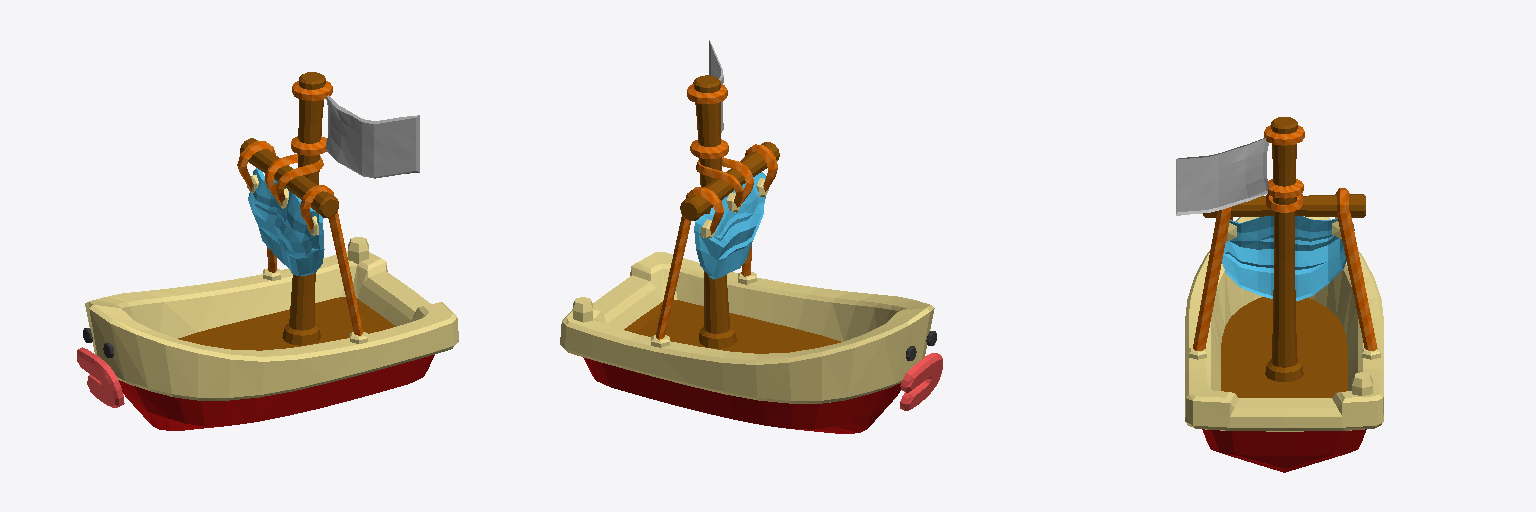
3 renders of one model, left to right at view 1: azimuth 30°, elevation 25°; view 2: azimuth 150°, elevation 25°; view 3: azimuth 270°, elevation 25°, orthographic.
Parts seen in each view (by area): view 1: Boat; view 2: Boat; view 3: Boat.
Part boxes in pixels (x1,y1,x2,y2): Boat: (77, 72, 458, 430); Boat: (560, 40, 942, 433); Boat: (1176, 117, 1383, 472).
Size of the model in its own units: 3.32 by 3.15 by 1.82.
Materials: 1 (1 with a texture image).